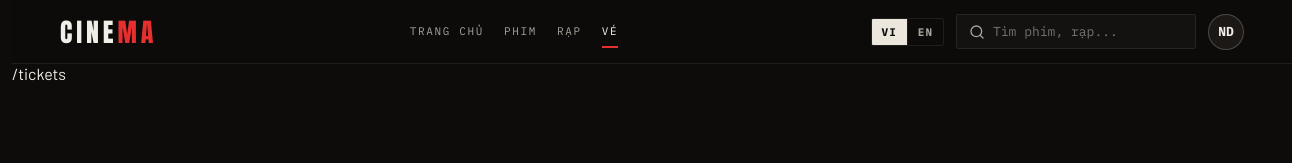
Navbar › đăng xuất: xoá phiên và đưa về trang chủ
Check: the navigation bar is shown, box left=12, top=0, right=1291, bottom=64
Click the button with aria-label "Tài khoản".
click(1226, 32)  # box left=1208, top=14, right=1244, bottom=50
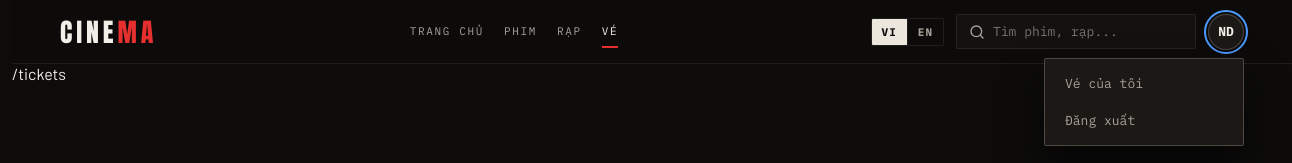
Click the button "Đăng xuất".
click(1144, 120)  # box left=1053, top=104, right=1235, bottom=136
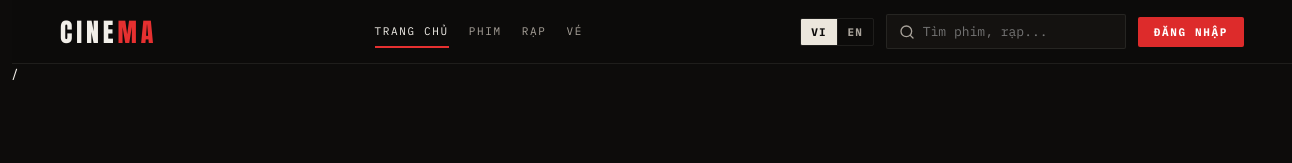
Check: the text with test id "path" reads "/", box left=12, top=64, right=18, bottom=83
Check: the link "Đăng nhập" is shown, box left=1138, top=16, right=1244, bottom=46
